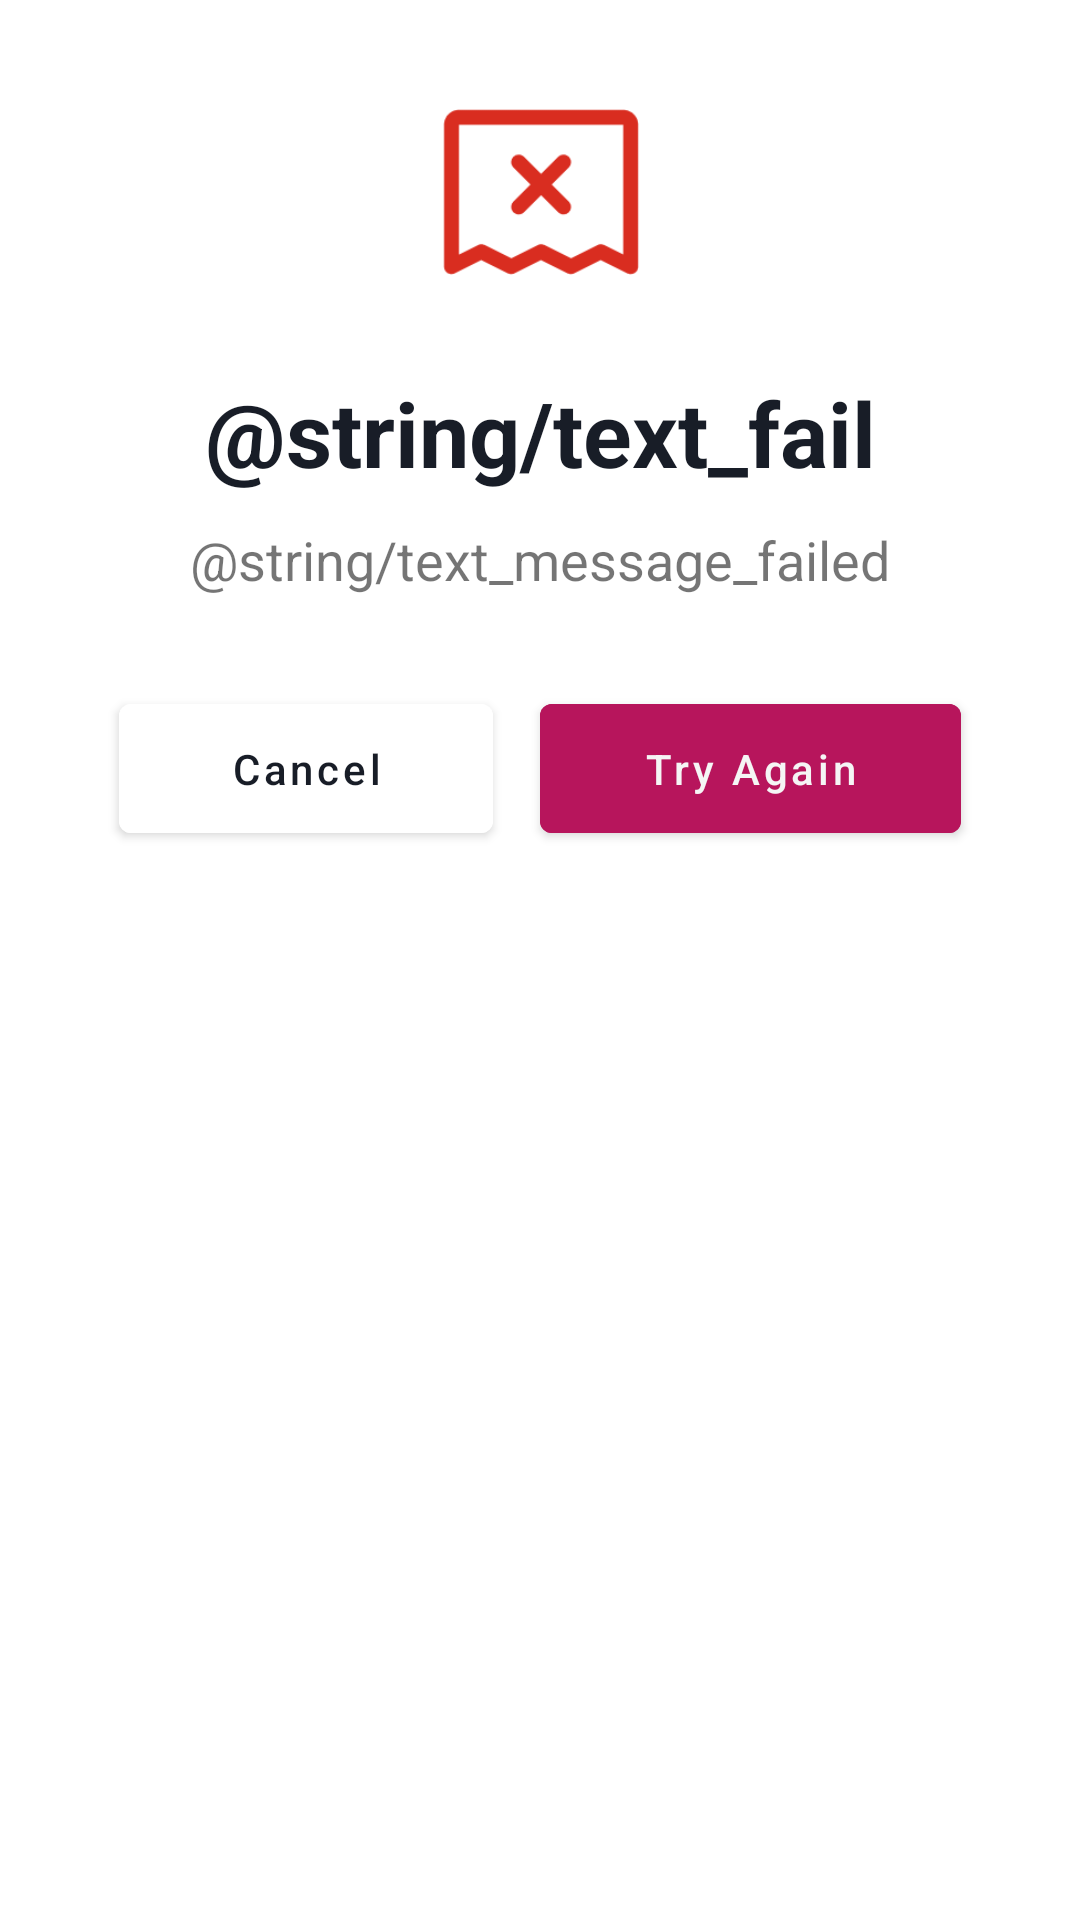

Where to tap for icons on this 1080×1920 app screen, as (x=x, y=y):
failed: (x=541, y=192)
